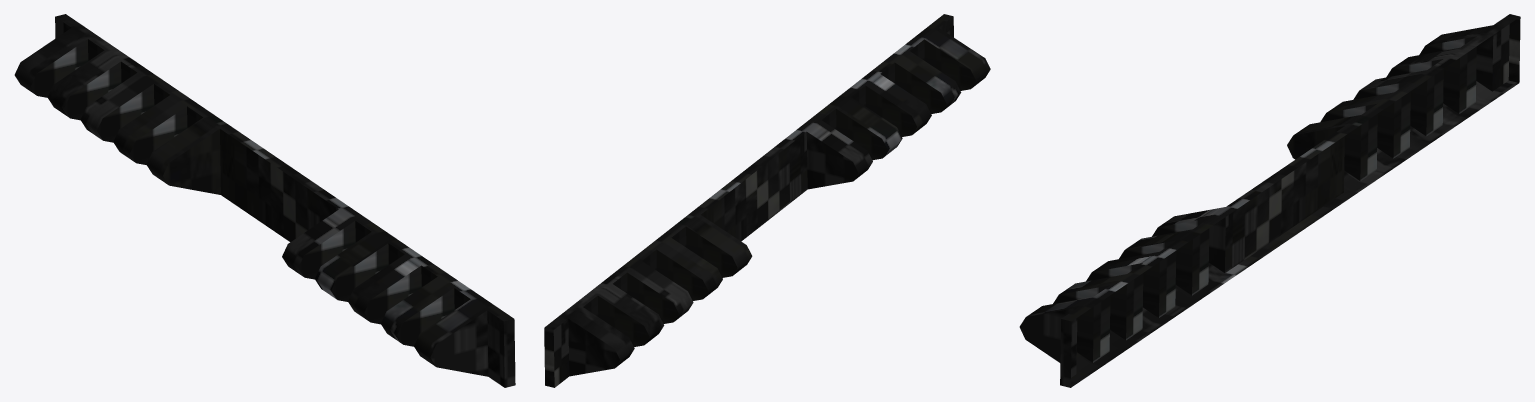
3 views of the same model, side by side, from view 1: azimuth 30°, elevation 25°; view 2: azimuth 150°, elevation 25°; view 3: azimuth 330°, elevation 25° (orthographic). The views are drawn at different scales.
Parts seen in each view (by area): view 1: wingtipL_hinge_2_f35_ext_3_0; view 2: wingtipL_hinge_2_f35_ext_3_0; view 3: wingtipL_hinge_2_f35_ext_3_0.
Boxes of the visible parts, x1,y1,x2,y2 form: wingtipL_hinge_2_f35_ext_3_0: (14,14,515,387); wingtipL_hinge_2_f35_ext_3_0: (544,14,990,387); wingtipL_hinge_2_f35_ext_3_0: (1019,14,1520,387).
Size of the model in its own units: 9.42 by 11.78 by 108.
Materials: 1 (1 with a texture image).
